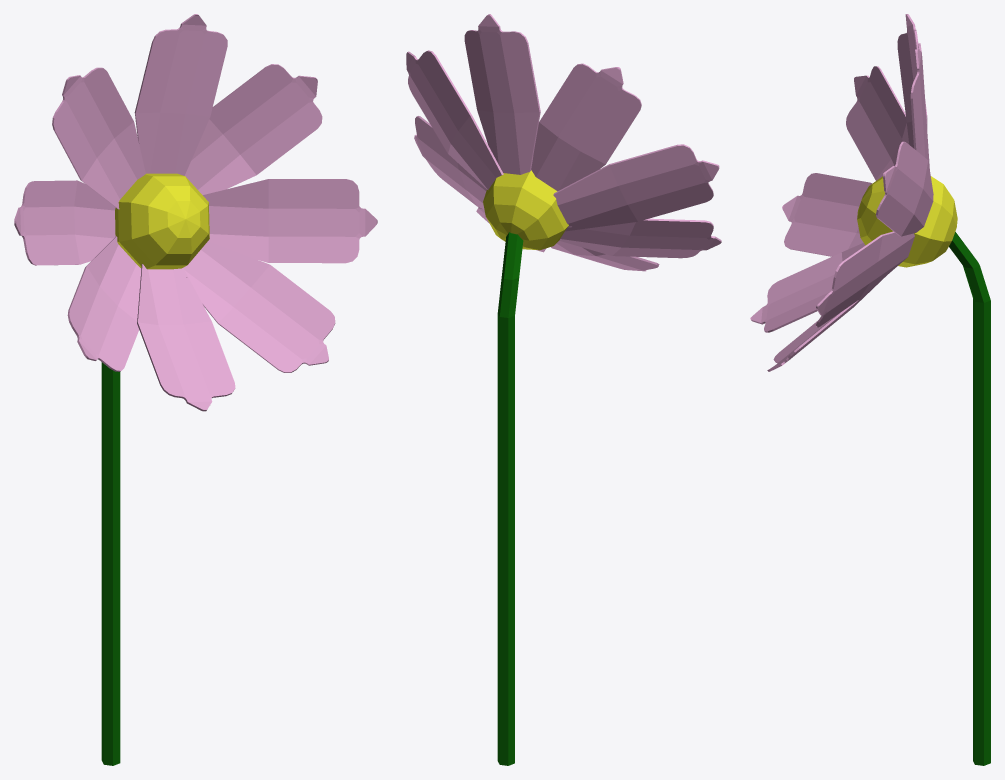
The model's file is flor.fbx.
3 renders of one model, left to right at view 1: azimuth 30°, elevation 25°; view 2: azimuth 150°, elevation 25°; view 3: azimuth 270°, elevation 25°, orthographic. The views are drawn at different scales.
Parts seen in each view (by area): view 1: FlorGigante; view 2: FlorGigante; view 3: FlorGigante.
Part boxes in pixels (x1=…): FlorGigante: x1=14, y1=14, x2=377, y2=765; FlorGigante: x1=406, y1=14, x2=721, y2=765; FlorGigante: x1=750, y1=14, x2=990, y2=765.
Size of the model in its own units: 172 by 362 by 107.
